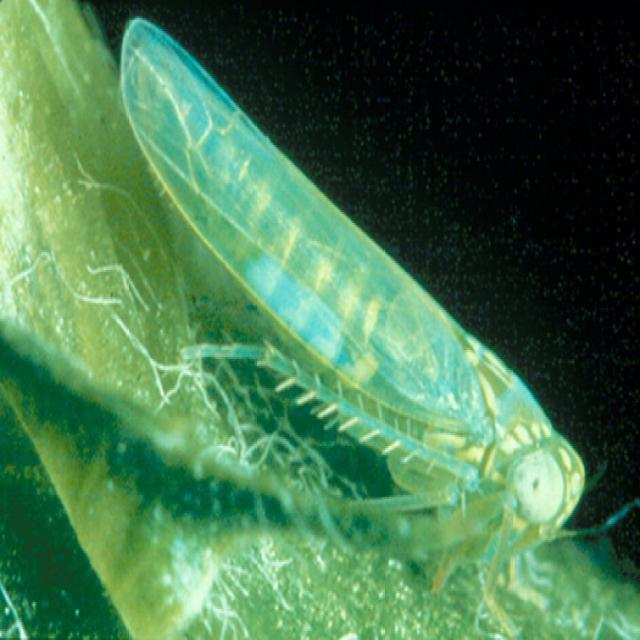Yechan: (121, 10, 597, 590)
